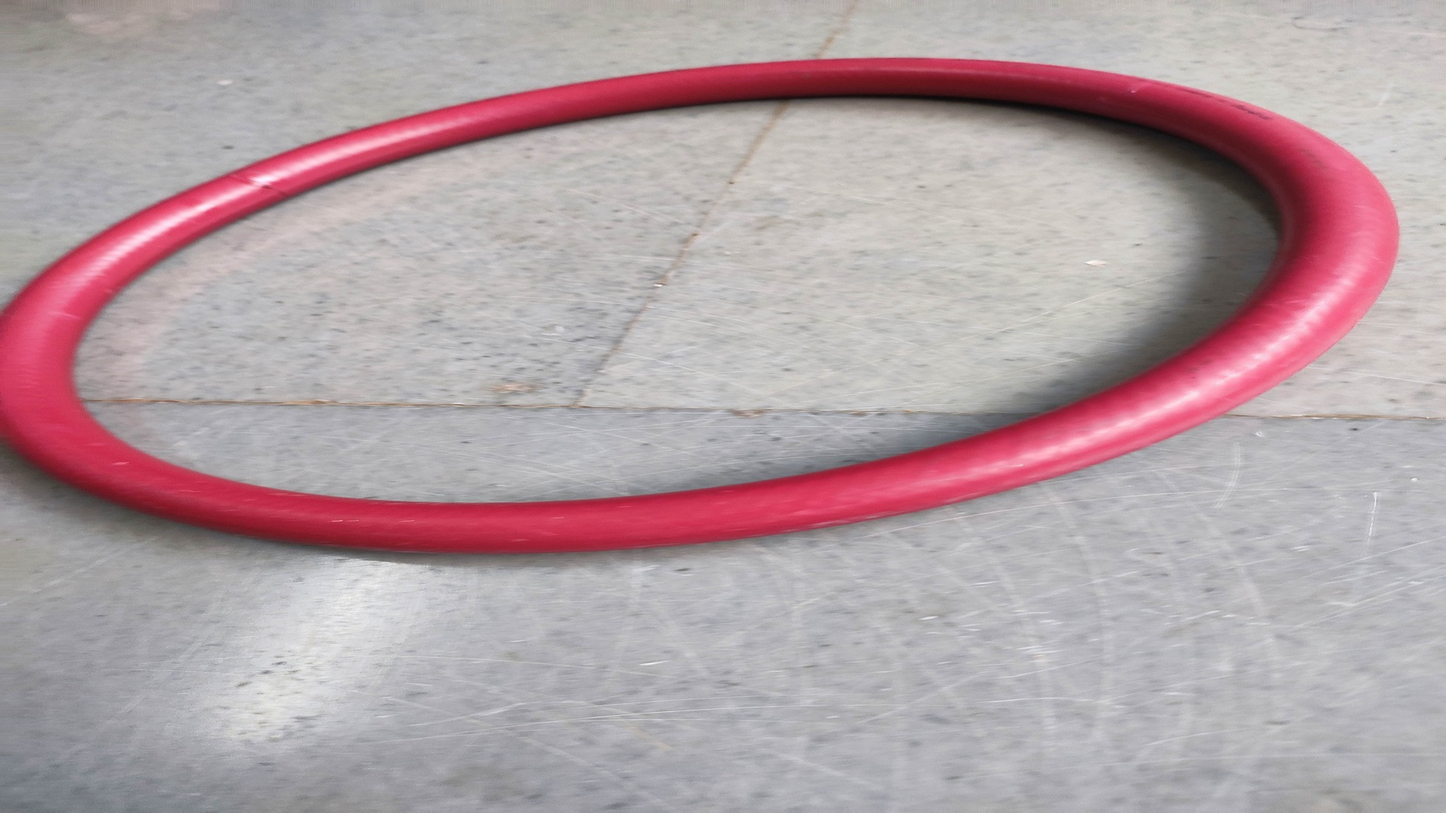Red ring: (5, 59, 1398, 556)
